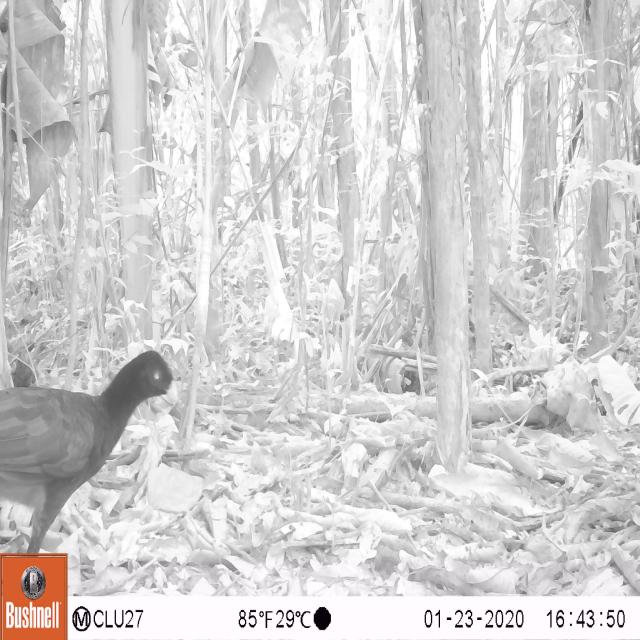Salvins Curassow: (0, 323, 187, 552)
